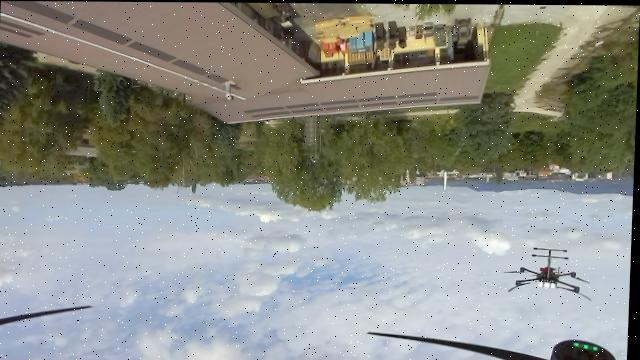drone: (494, 241, 600, 307)
